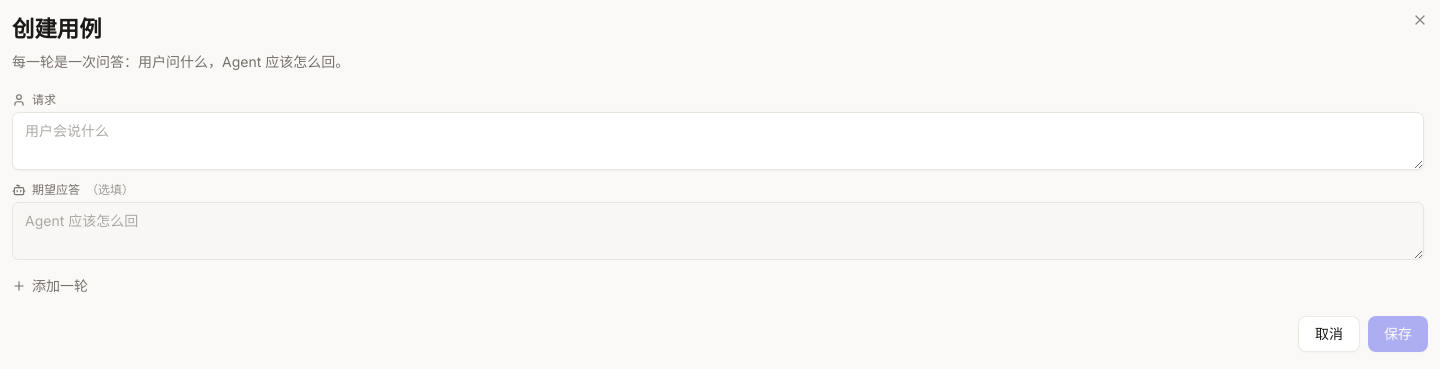
Test: CaseEditor › blocks submit until every turn has a request
Expected: the button "保存" is disabled, [1368,316,1428,352]
Type "now valid" into the text box labelled "请求" at point(718, 141), box [12,112,1424,170]
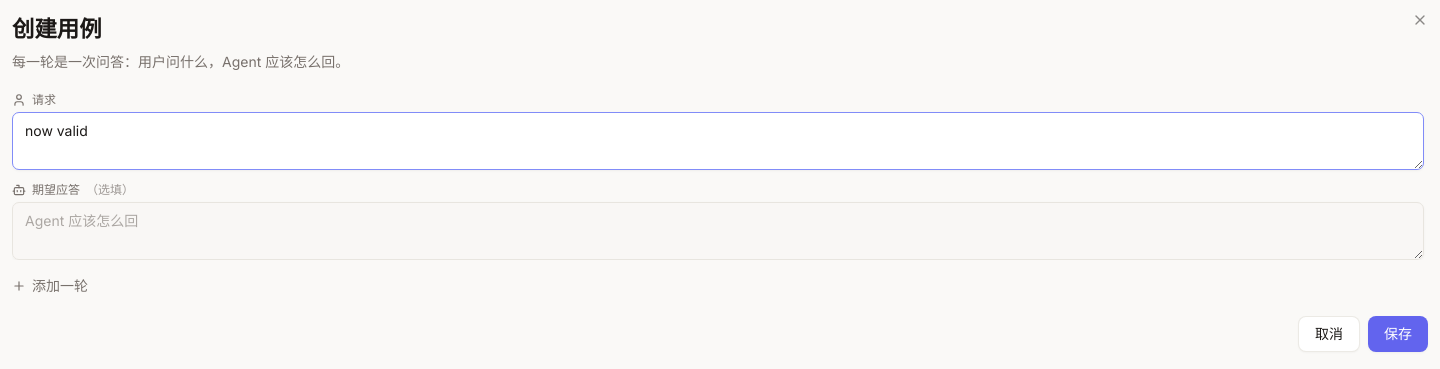
Expected: the button "保存" is enabled, [1368,316,1428,352]
